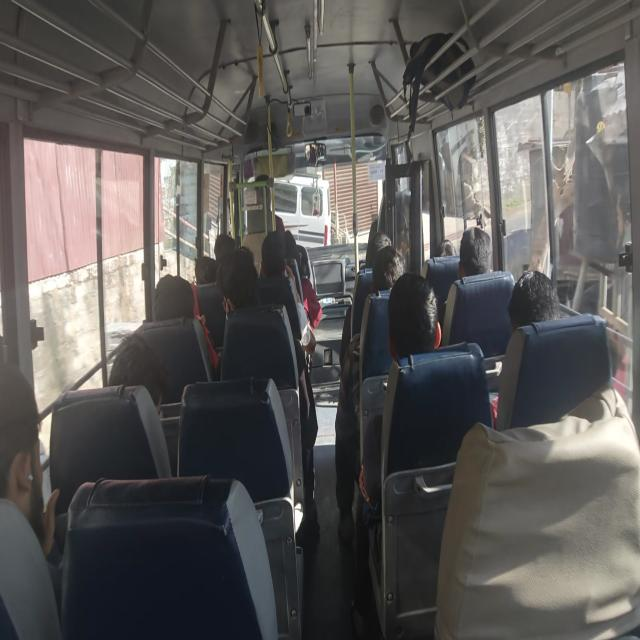person: (434, 386, 639, 638), (351, 271, 442, 636), (215, 244, 319, 530), (334, 243, 406, 542), (0, 360, 63, 637), (489, 268, 563, 427), (339, 230, 393, 370), (441, 225, 493, 345), (108, 332, 171, 416), (387, 272, 442, 360), (283, 229, 322, 329), (508, 269, 562, 332), (458, 226, 492, 278), (372, 244, 405, 292), (214, 232, 236, 262)
